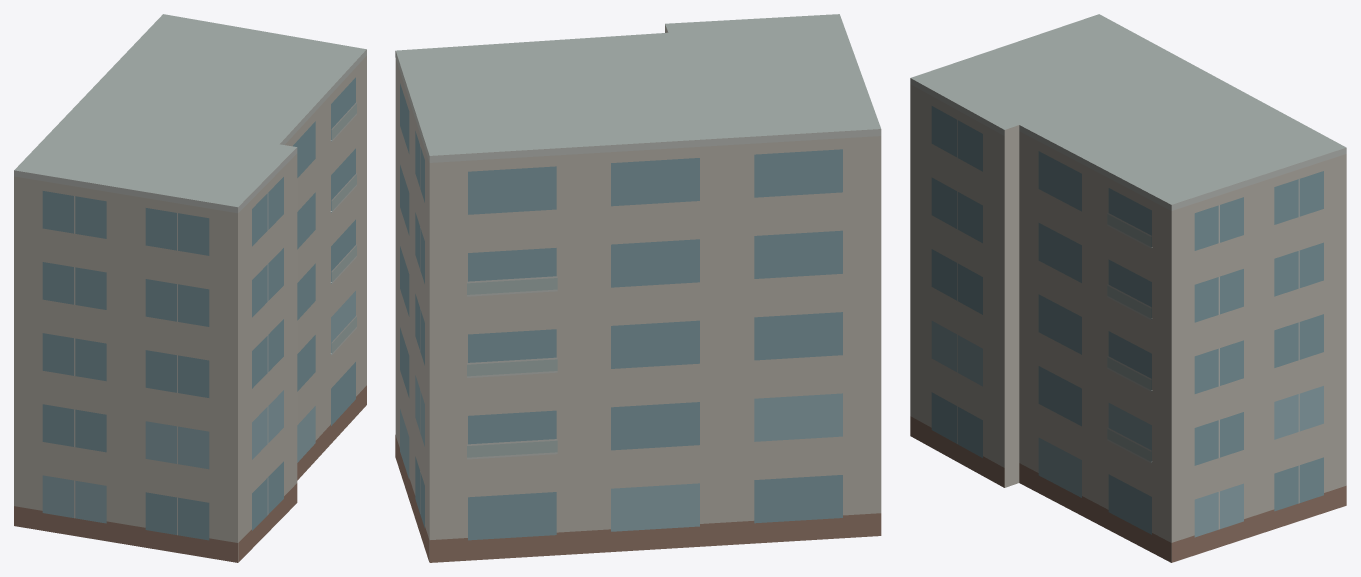
File: survey-upis-32852343.glb
3 renders of one model, left to right at view 1: azimuth 30°, elevation 25°; view 2: azimuth 150°, elevation 25°; view 3: azimuth 270°, elevation 25°, orthographic. The views are drawn at different scales.
Parts seen in each view (by area): view 1: survey-upis-32852343.tmp; view 2: survey-upis-32852343.tmp; view 3: survey-upis-32852343.tmp.
Part boxes in pixels (bbox=[...]): survey-upis-32852343.tmp: bbox=[14, 14, 366, 562]; survey-upis-32852343.tmp: bbox=[395, 14, 881, 562]; survey-upis-32852343.tmp: bbox=[910, 14, 1346, 562].
Bounding box in the file's own units: 16.13 × 14.1 × 15.58.
